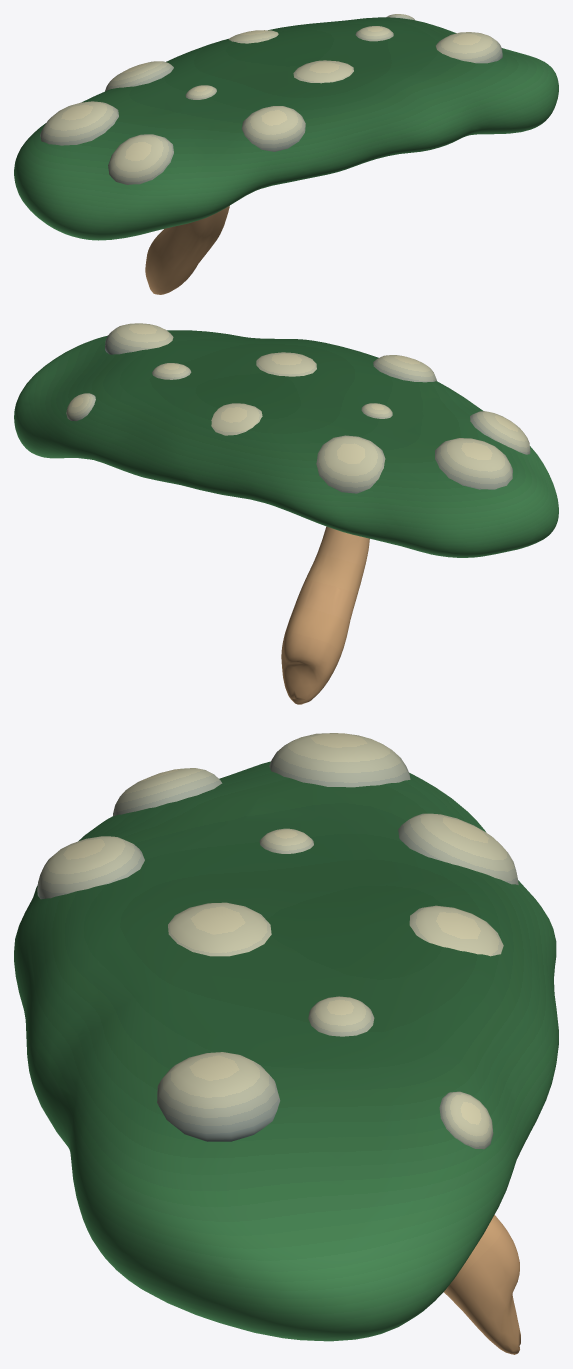
File: StumpPlatform_Mush.fbx
The picture shows the model from 3 angles, top to bottom: view 1: azimuth 30°, elevation 25°; view 2: azimuth 150°, elevation 25°; view 3: azimuth 270°, elevation 25°; orthographic projection. The views are drawn at different scales.
Visible parts, largest first — view 1: Mushroom, ShroomStalk.001; view 2: Mushroom, ShroomStalk.001; view 3: Mushroom, ShroomStalk.001.
Boxes of the visible parts, <box> form: Mushroom: <box>14,14,558,240</box>; ShroomStalk.001: <box>145,205,229,294</box>; Mushroom: <box>14,323,558,557</box>; ShroomStalk.001: <box>281,526,369,704</box>; Mushroom: <box>14,733,558,1341</box>; ShroomStalk.001: <box>444,1215,520,1354</box>.
Size of the model in its own units: 4.69 by 2.18 by 2.28.
